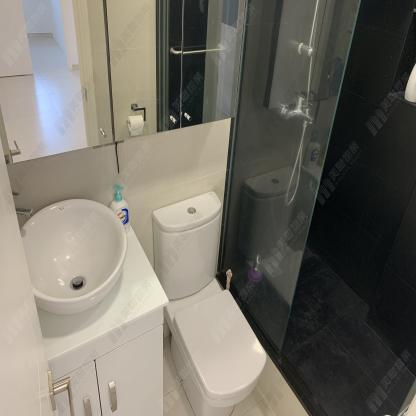Toilet: (150, 190, 268, 416)
Toilet Sink: (19, 194, 127, 317)
Water Cubicle: (216, 0, 416, 416)
